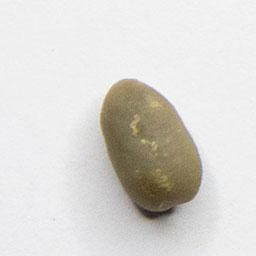peaberry: (96, 75, 206, 219)
